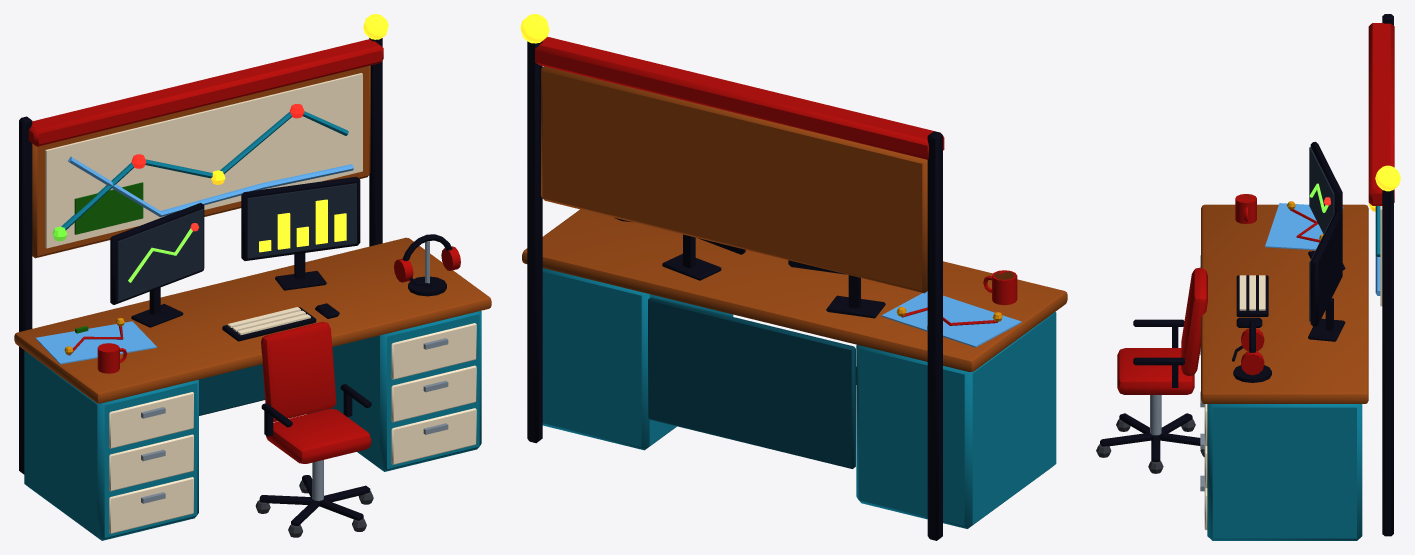
Rendered from DispatchDesk.fbx.
3 views of the same model, side by side, from view 1: azimuth 30°, elevation 25°; view 2: azimuth 150°, elevation 25°; view 3: azimuth 270°, elevation 25° (orthographic). The views are drawn at different scales.
Parts seen in each view (by area): view 1: DispatchDesk; view 2: DispatchDesk; view 3: DispatchDesk.
Part boxes in pixels (left/top/right/bottom): DispatchDesk: left=14, top=14, right=491, bottom=540; DispatchDesk: left=520, top=14, right=1067, bottom=540; DispatchDesk: left=1096, top=14, right=1400, bottom=540.
Size of the model in its own units: 7 by 6.3 by 4.73.
